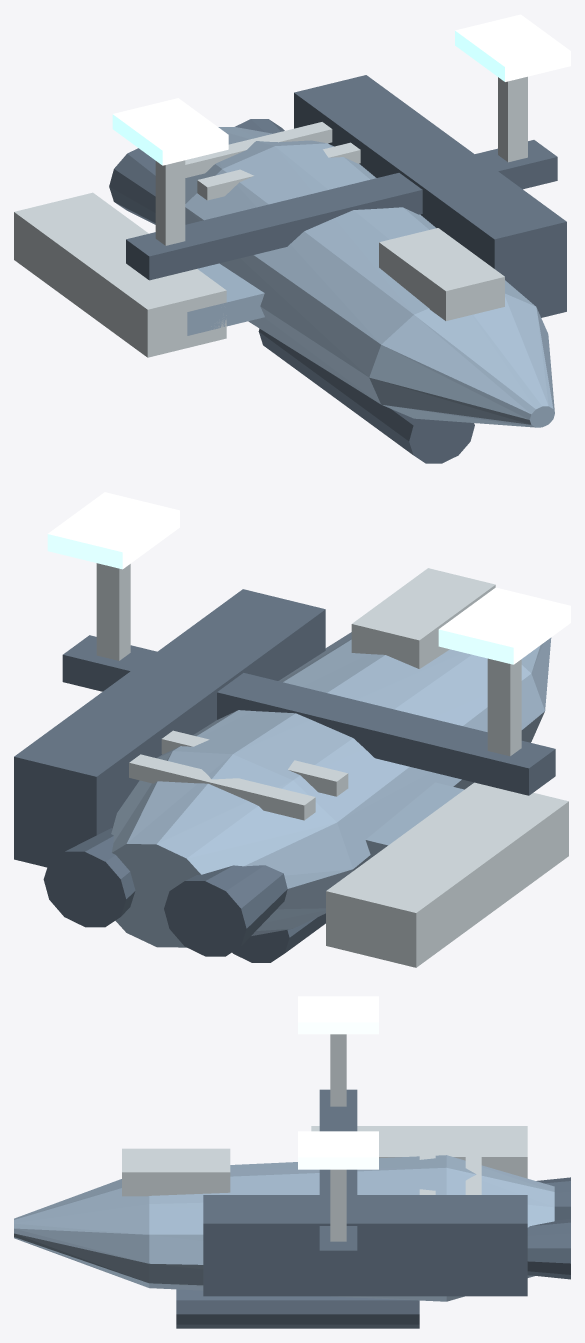
The picture shows the model from 3 angles, top to bottom: view 1: azimuth 30°, elevation 25°; view 2: azimuth 150°, elevation 25°; view 3: azimuth 270°, elevation 25°; orthographic projection. The views are drawn at different scales.
Bounding box in the file's own units: 2.92 × 2.07 × 4.2.
